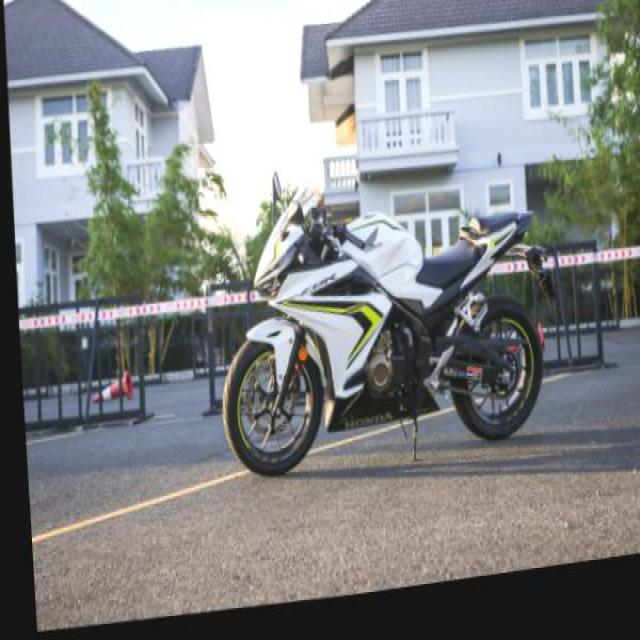CBR500R: (208, 162, 544, 491)
